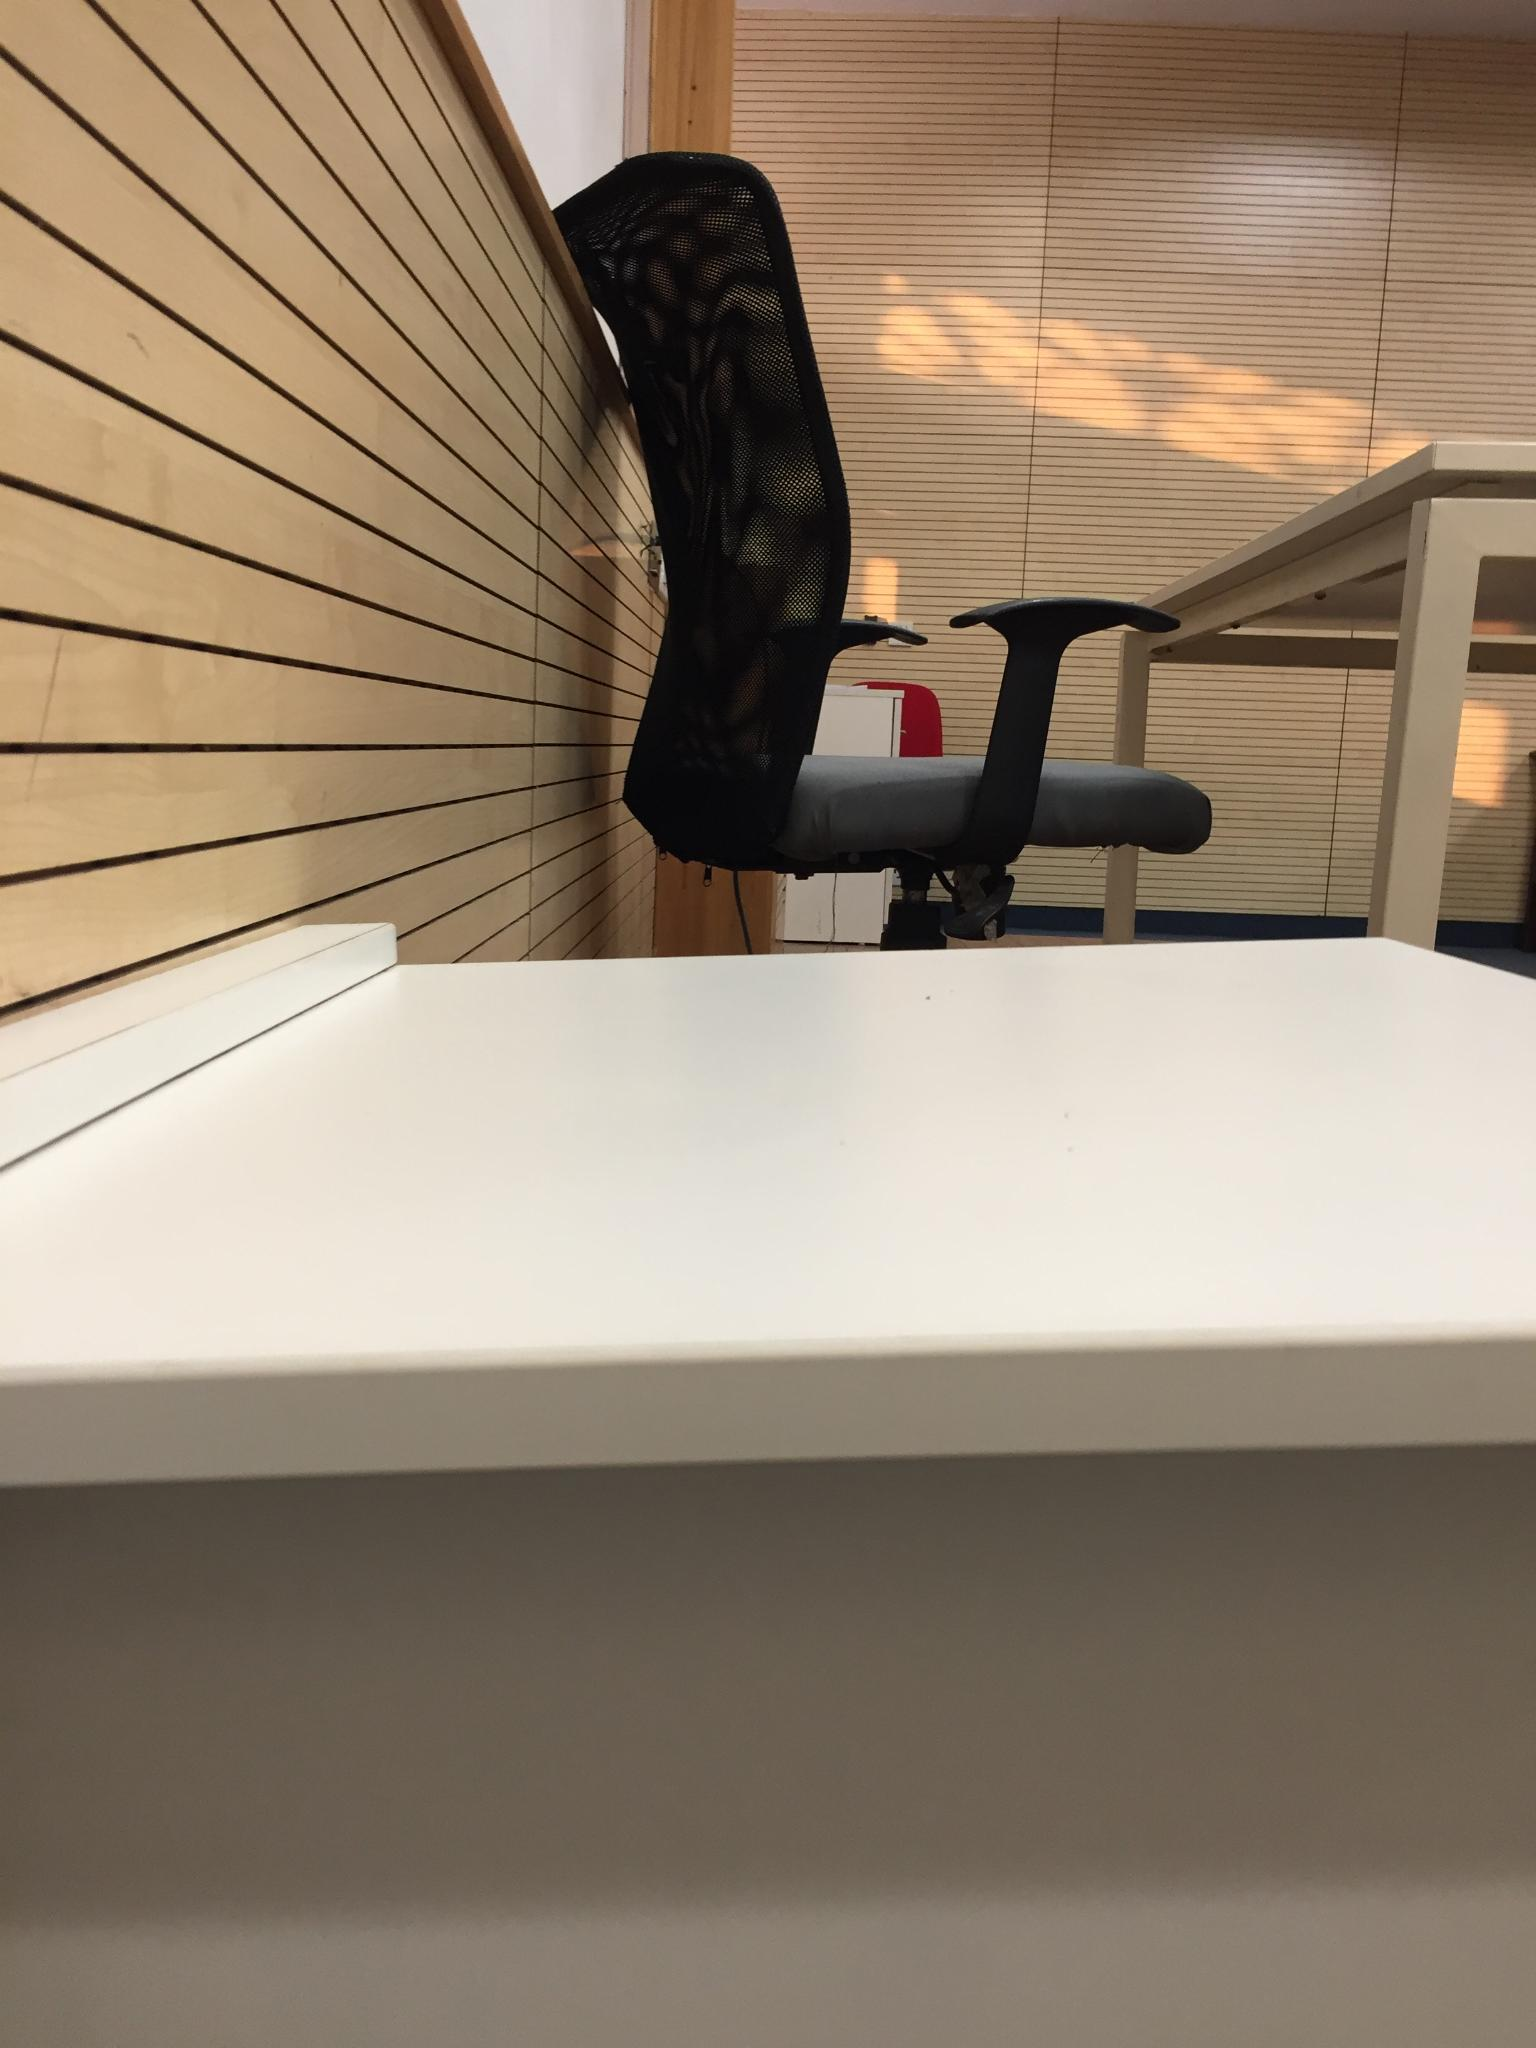chair: (550, 148, 1212, 948)
